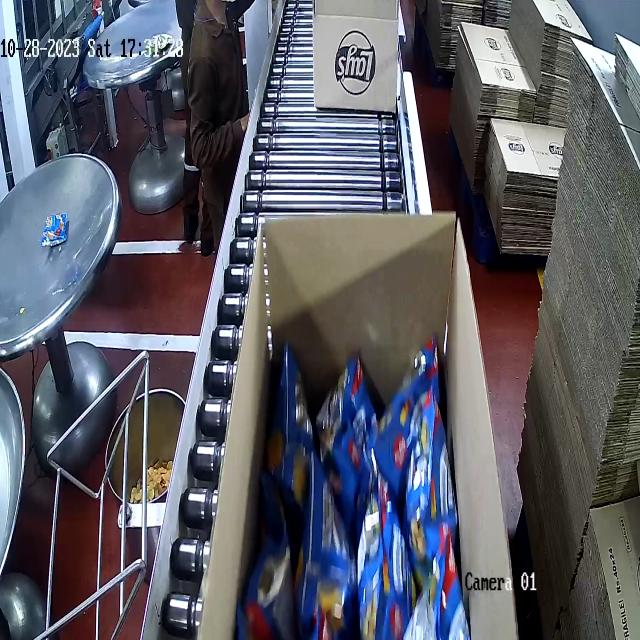PAPRIKA: (256, 326, 491, 640)
